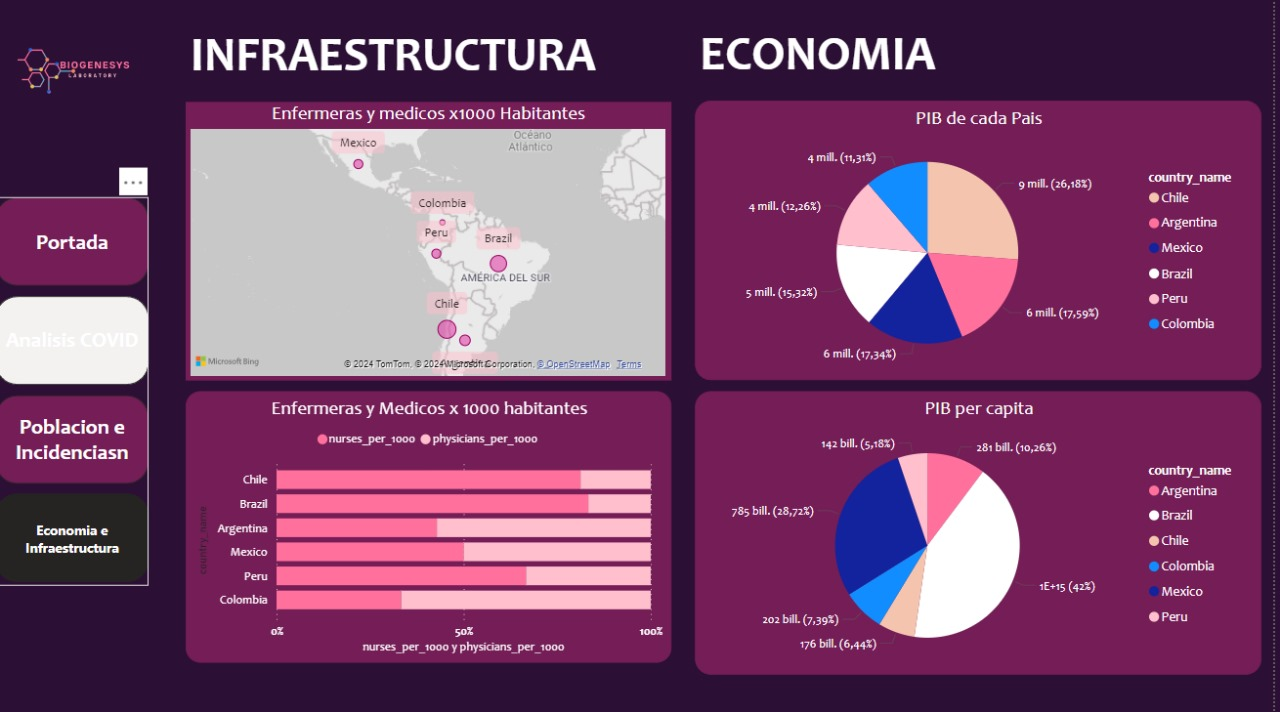

This screenshot's page, from the dashboard's own definition file:
{"tool":"powerbi","page":{"name":"Economia e Infraestructura","canvas":[1280,720],"ordinal":3},"visuals":[{"type":"pieChart","title":"PIB per capita","fields":{"Series":["DatosFinalesFiltrado.country_name"],"Y":["*Medidas.sum_PBI"]},"box":[701.2,398.2,567.1,284.2],"z":0},{"type":"pieChart","title":"PIB de cada Pais","fields":{"Y":["Sum(DatosFinalesFiltrado.gdp_per_capita_usd)"],"Category":["DatosFinalesFiltrado.country_name"]},"box":[701.2,108.2,567.1,279.9],"z":1000},{"type":"textbox","box":[701.2,26,567.1,70.7],"z":2000},{"type":"pageNavigator","box":[0,204.5,154.1,388.8],"z":3000},{"type":"image","box":[0,0,154.1,155.5],"z":4000},{"type":"map","title":"Enfermeras y medicos  x1000 Habitantes","fields":{"Category":["data_filtrada.country_name"],"Size":["Sum(data_filtrada.nurses_per_1000)"]},"box":[191,108.7,486.4,279.2],"z":5000},{"type":"hundredPercentStackedBarChart","title":"Enfermeras y Medicos x 1000 habitantes","fields":{"Category":["data_filtrada.country_name"],"Y":["Sum(data_filtrada.nurses_per_1000)","Sum(data_filtrada.physicians_per_1000)"]},"box":[191,398.3,486.4,271.9],"z":6000},{"type":"textbox","box":[191,26.5,486.4,70.5],"z":7000}]}

Visuals, with their boxes on the page's 1280x720 design canvas (x1, y1, x2, y2). These are canvas units, not pixel positions in the 1280x712 screenshot, which may show the page scaled, cropped or inside an application window:
"PIB per capita" pieChart: bbox=(701, 398, 1268, 682)
"PIB de cada Pais" pieChart: bbox=(701, 108, 1268, 388)
textbox: bbox=(701, 26, 1268, 97)
pageNavigator: bbox=(0, 204, 154, 593)
image: bbox=(0, 0, 154, 156)
"Enfermeras y medicos  x1000 Habitantes" map: bbox=(191, 109, 677, 388)
"Enfermeras y Medicos x 1000 habitantes" hundredPercentStackedBarChart: bbox=(191, 398, 677, 670)
textbox: bbox=(191, 26, 677, 97)
